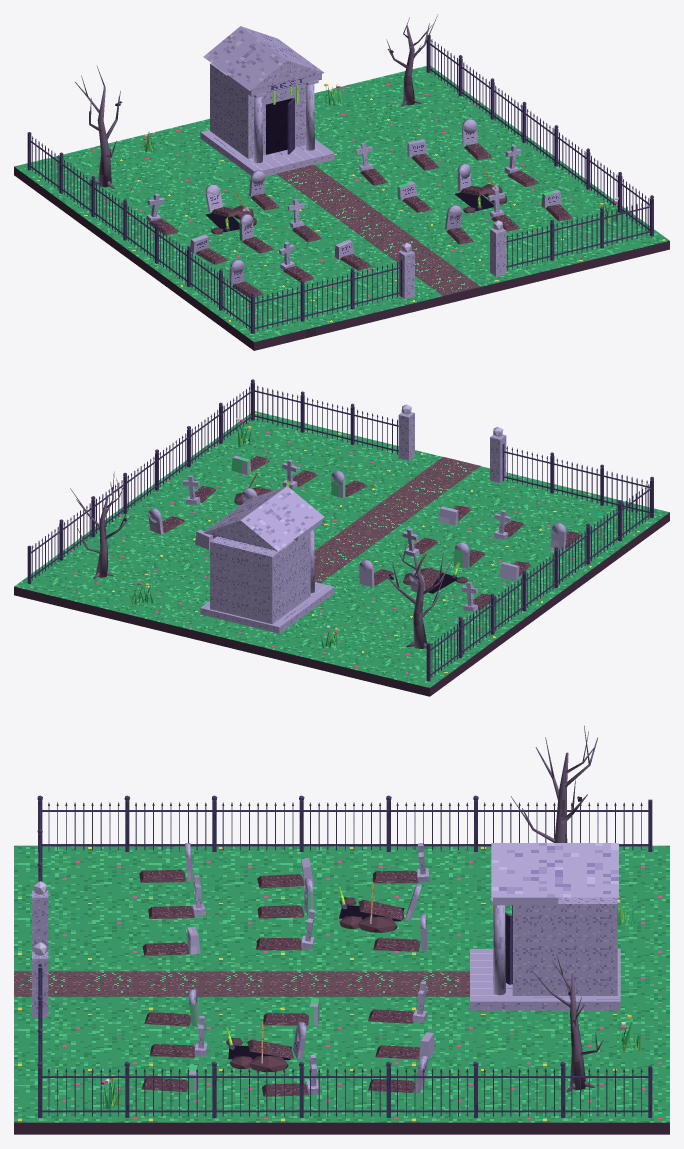
Rendered from Block Cemetery.fbx.
3 renders of one model, top to bottom at view 1: azimuth 30°, elevation 25°; view 2: azimuth 150°, elevation 25°; view 3: azimuth 270°, elevation 25°, orthographic. The views are drawn at different scales.
Parts seen in each view (by area): view 1: Block Cemetery mesh; view 2: Block Cemetery mesh; view 3: Block Cemetery mesh.
Boxes of the visible parts, <box> form: Block Cemetery mesh: <box>14,14,669,350</box>; Block Cemetery mesh: <box>14,379,669,696</box>; Block Cemetery mesh: <box>14,725,669,1134</box>.
Size of the model in its own units: 20 by 5.45 by 20.
30 materials, 30 textured.
